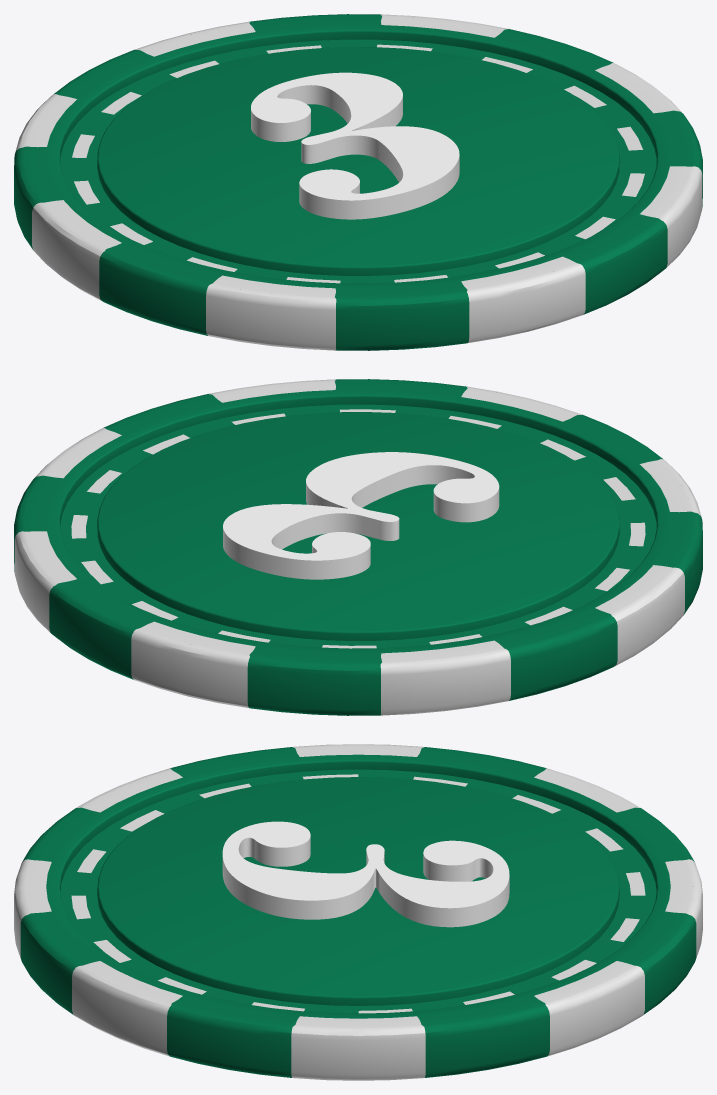
Rendered from 3_coin.glb.
3 renders of one model, top to bottom at view 1: azimuth 30°, elevation 25°; view 2: azimuth 150°, elevation 25°; view 3: azimuth 270°, elevation 25°, orthographic.
Parts seen in each view (by area): view 1: Chip.001, Text.006; view 2: Chip.001, Text.006; view 3: Chip.001, Text.006.
Part boxes in pixels (x1,y1,x2,y2): Chip.001: [14, 14, 702, 350]; Text.006: [251, 72, 459, 219]; Chip.001: [14, 379, 702, 715]; Text.006: [223, 452, 499, 579]; Chip.001: [14, 744, 702, 1080]; Text.006: [222, 821, 509, 927].
Size of the model in its own units: 5.28 by 0.8 by 5.28.
